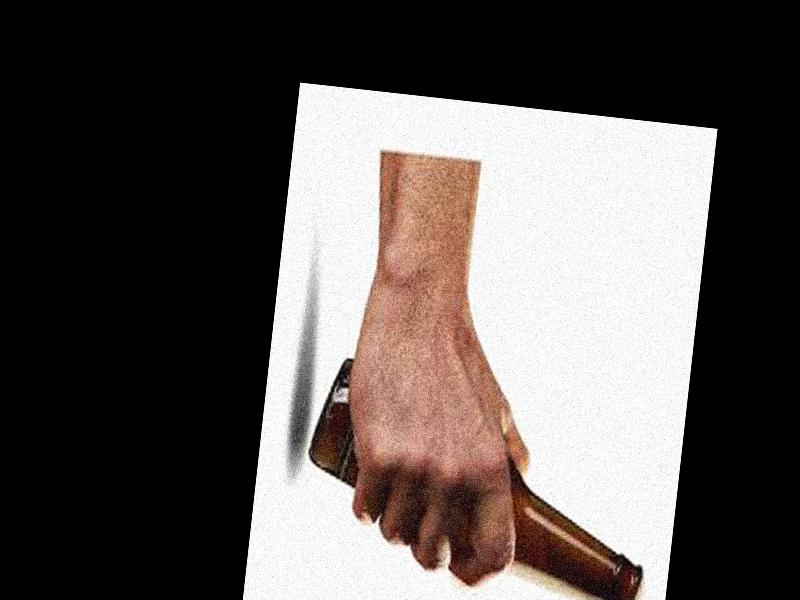Beer: (291, 355, 661, 600)
